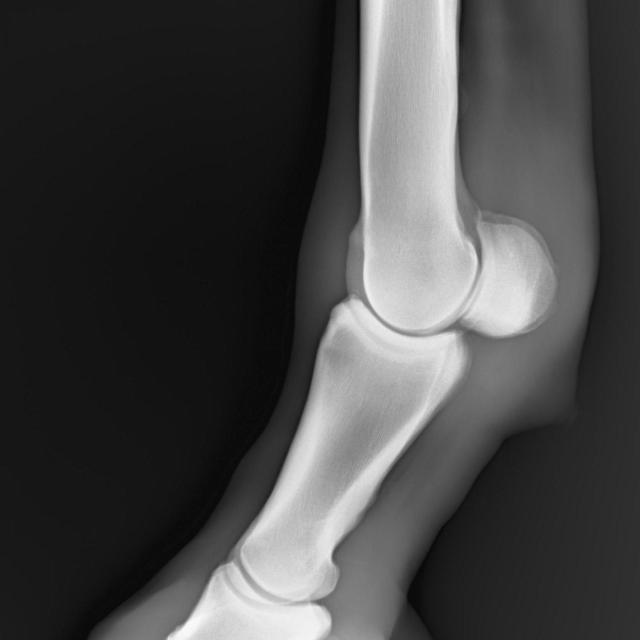joint-ht8A: (303, 157, 583, 418)
